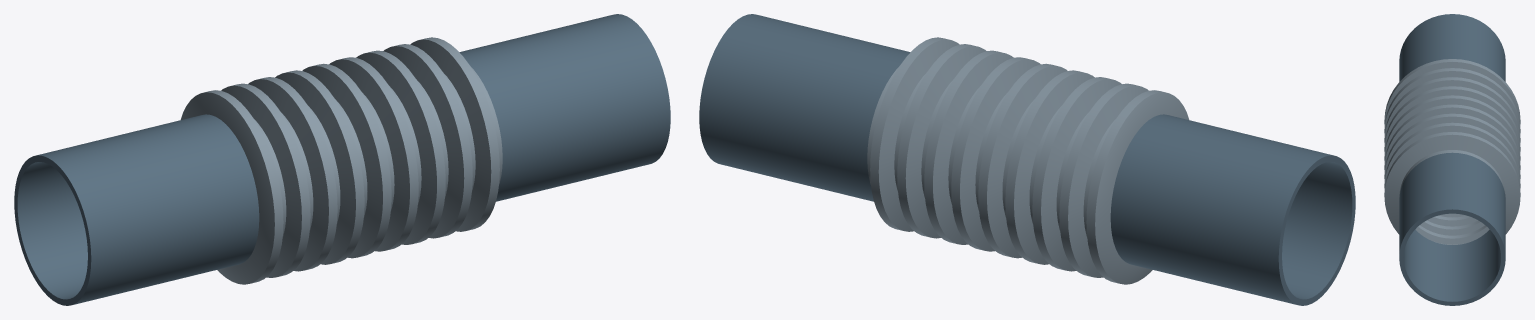
File: silf-dn65-L330-D76.glb
3 views of the same model, side by side, from view 1: azimuth 30°, elevation 25°; view 2: azimuth 150°, elevation 25°; view 3: azimuth 270°, elevation 25° (orthographic). The views are drawn at different scales.
Parts seen in each view (by area): view 1: prokladka_silfon_1, patrubok_1, patrubok_2; view 2: prokladka_silfon_1, patrubok_1, patrubok_2; view 3: prokladka_silfon_1, patrubok_2, patrubok_1.
Boxes of the visible parts, x1,y1,x2,y2 form: prokladka_silfon_1: (180, 37, 502, 284); patrubok_1: (14, 114, 259, 305); patrubok_2: (459, 14, 670, 201); prokladka_silfon_1: (867, 37, 1189, 284); patrubok_1: (1110, 114, 1355, 305); patrubok_2: (699, 14, 910, 201); prokladka_silfon_1: (1384, 59, 1520, 244); patrubok_2: (1399, 152, 1505, 305); patrubok_1: (1399, 14, 1505, 81).
Bounding box in the file's own units: 330 × 97.12 × 97.12.
